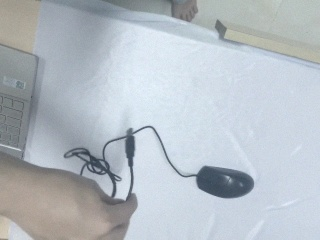mouse: (195, 164, 255, 200)
